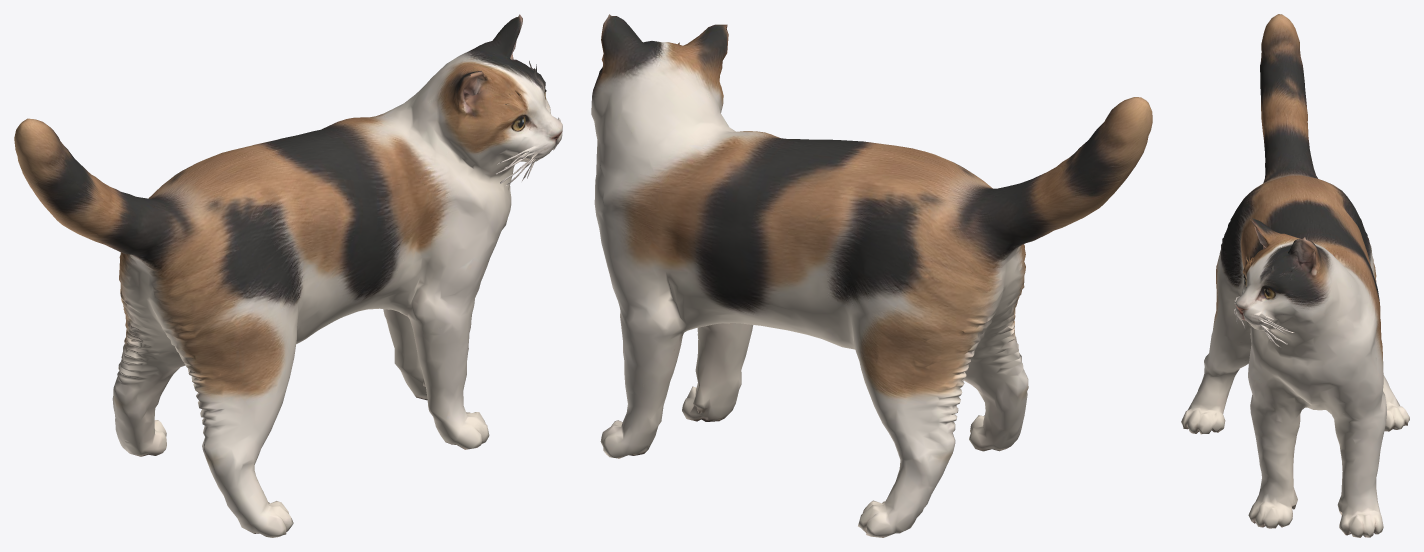
Rendered from BOXWOOD.glb.
3 renders of one model, left to right at view 1: azimuth 30°, elevation 25°; view 2: azimuth 150°, elevation 25°; view 3: azimuth 270°, elevation 25°, orthographic. The views are drawn at different scales.
Parts seen in each view (by area): view 1: tripo_node_15157314-69e4-4635-9af3-3aa8a68cd3ca; view 2: tripo_node_15157314-69e4-4635-9af3-3aa8a68cd3ca; view 3: tripo_node_15157314-69e4-4635-9af3-3aa8a68cd3ca.
Part boxes in pixels (box(x1,y1,x2,y2)): tripo_node_15157314-69e4-4635-9af3-3aa8a68cd3ca: box(14, 14, 562, 537); tripo_node_15157314-69e4-4635-9af3-3aa8a68cd3ca: box(591, 14, 1152, 537); tripo_node_15157314-69e4-4635-9af3-3aa8a68cd3ca: box(1181, 14, 1409, 537).
Size of the model in its own units: 1.34 by 1 by 0.6099.
1 material, 1 textured.
